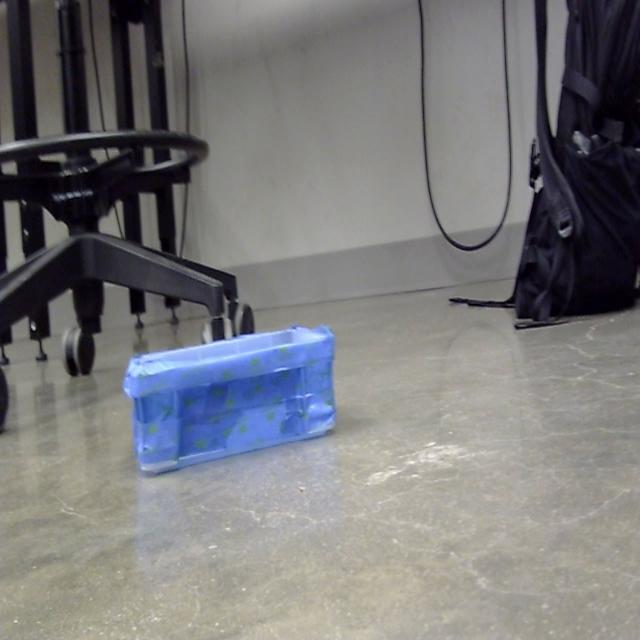bucket: (122, 326, 338, 478)
